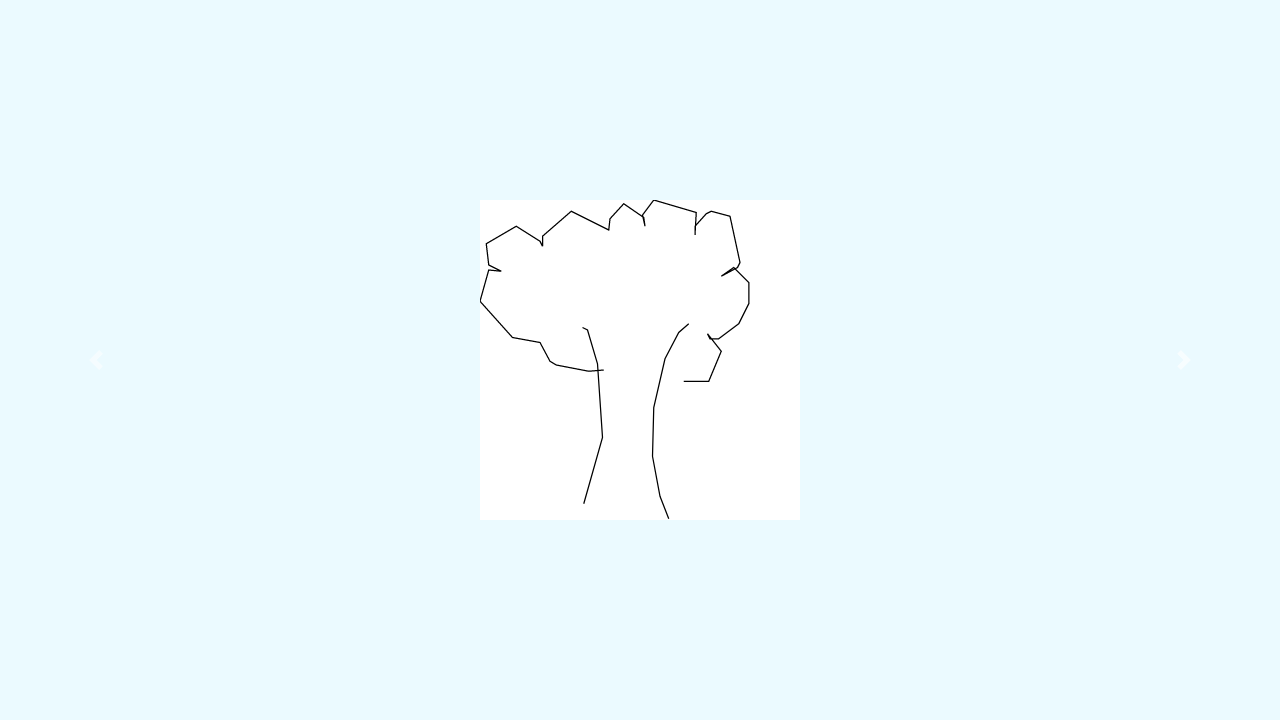tree: (471, 195, 757, 521)
